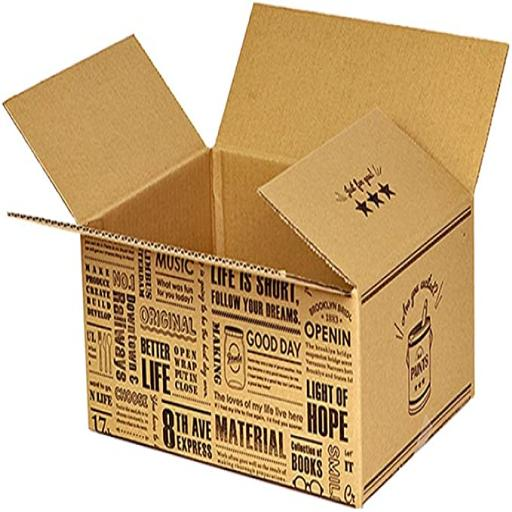box: (1, 1, 512, 511)
opened: (2, 1, 512, 296)
